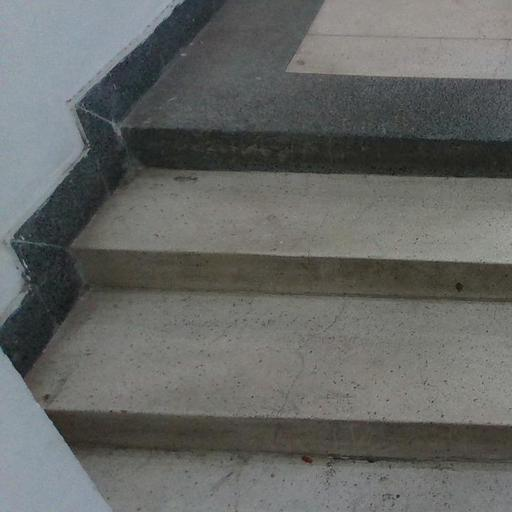stairs: (27, 0, 511, 511)
